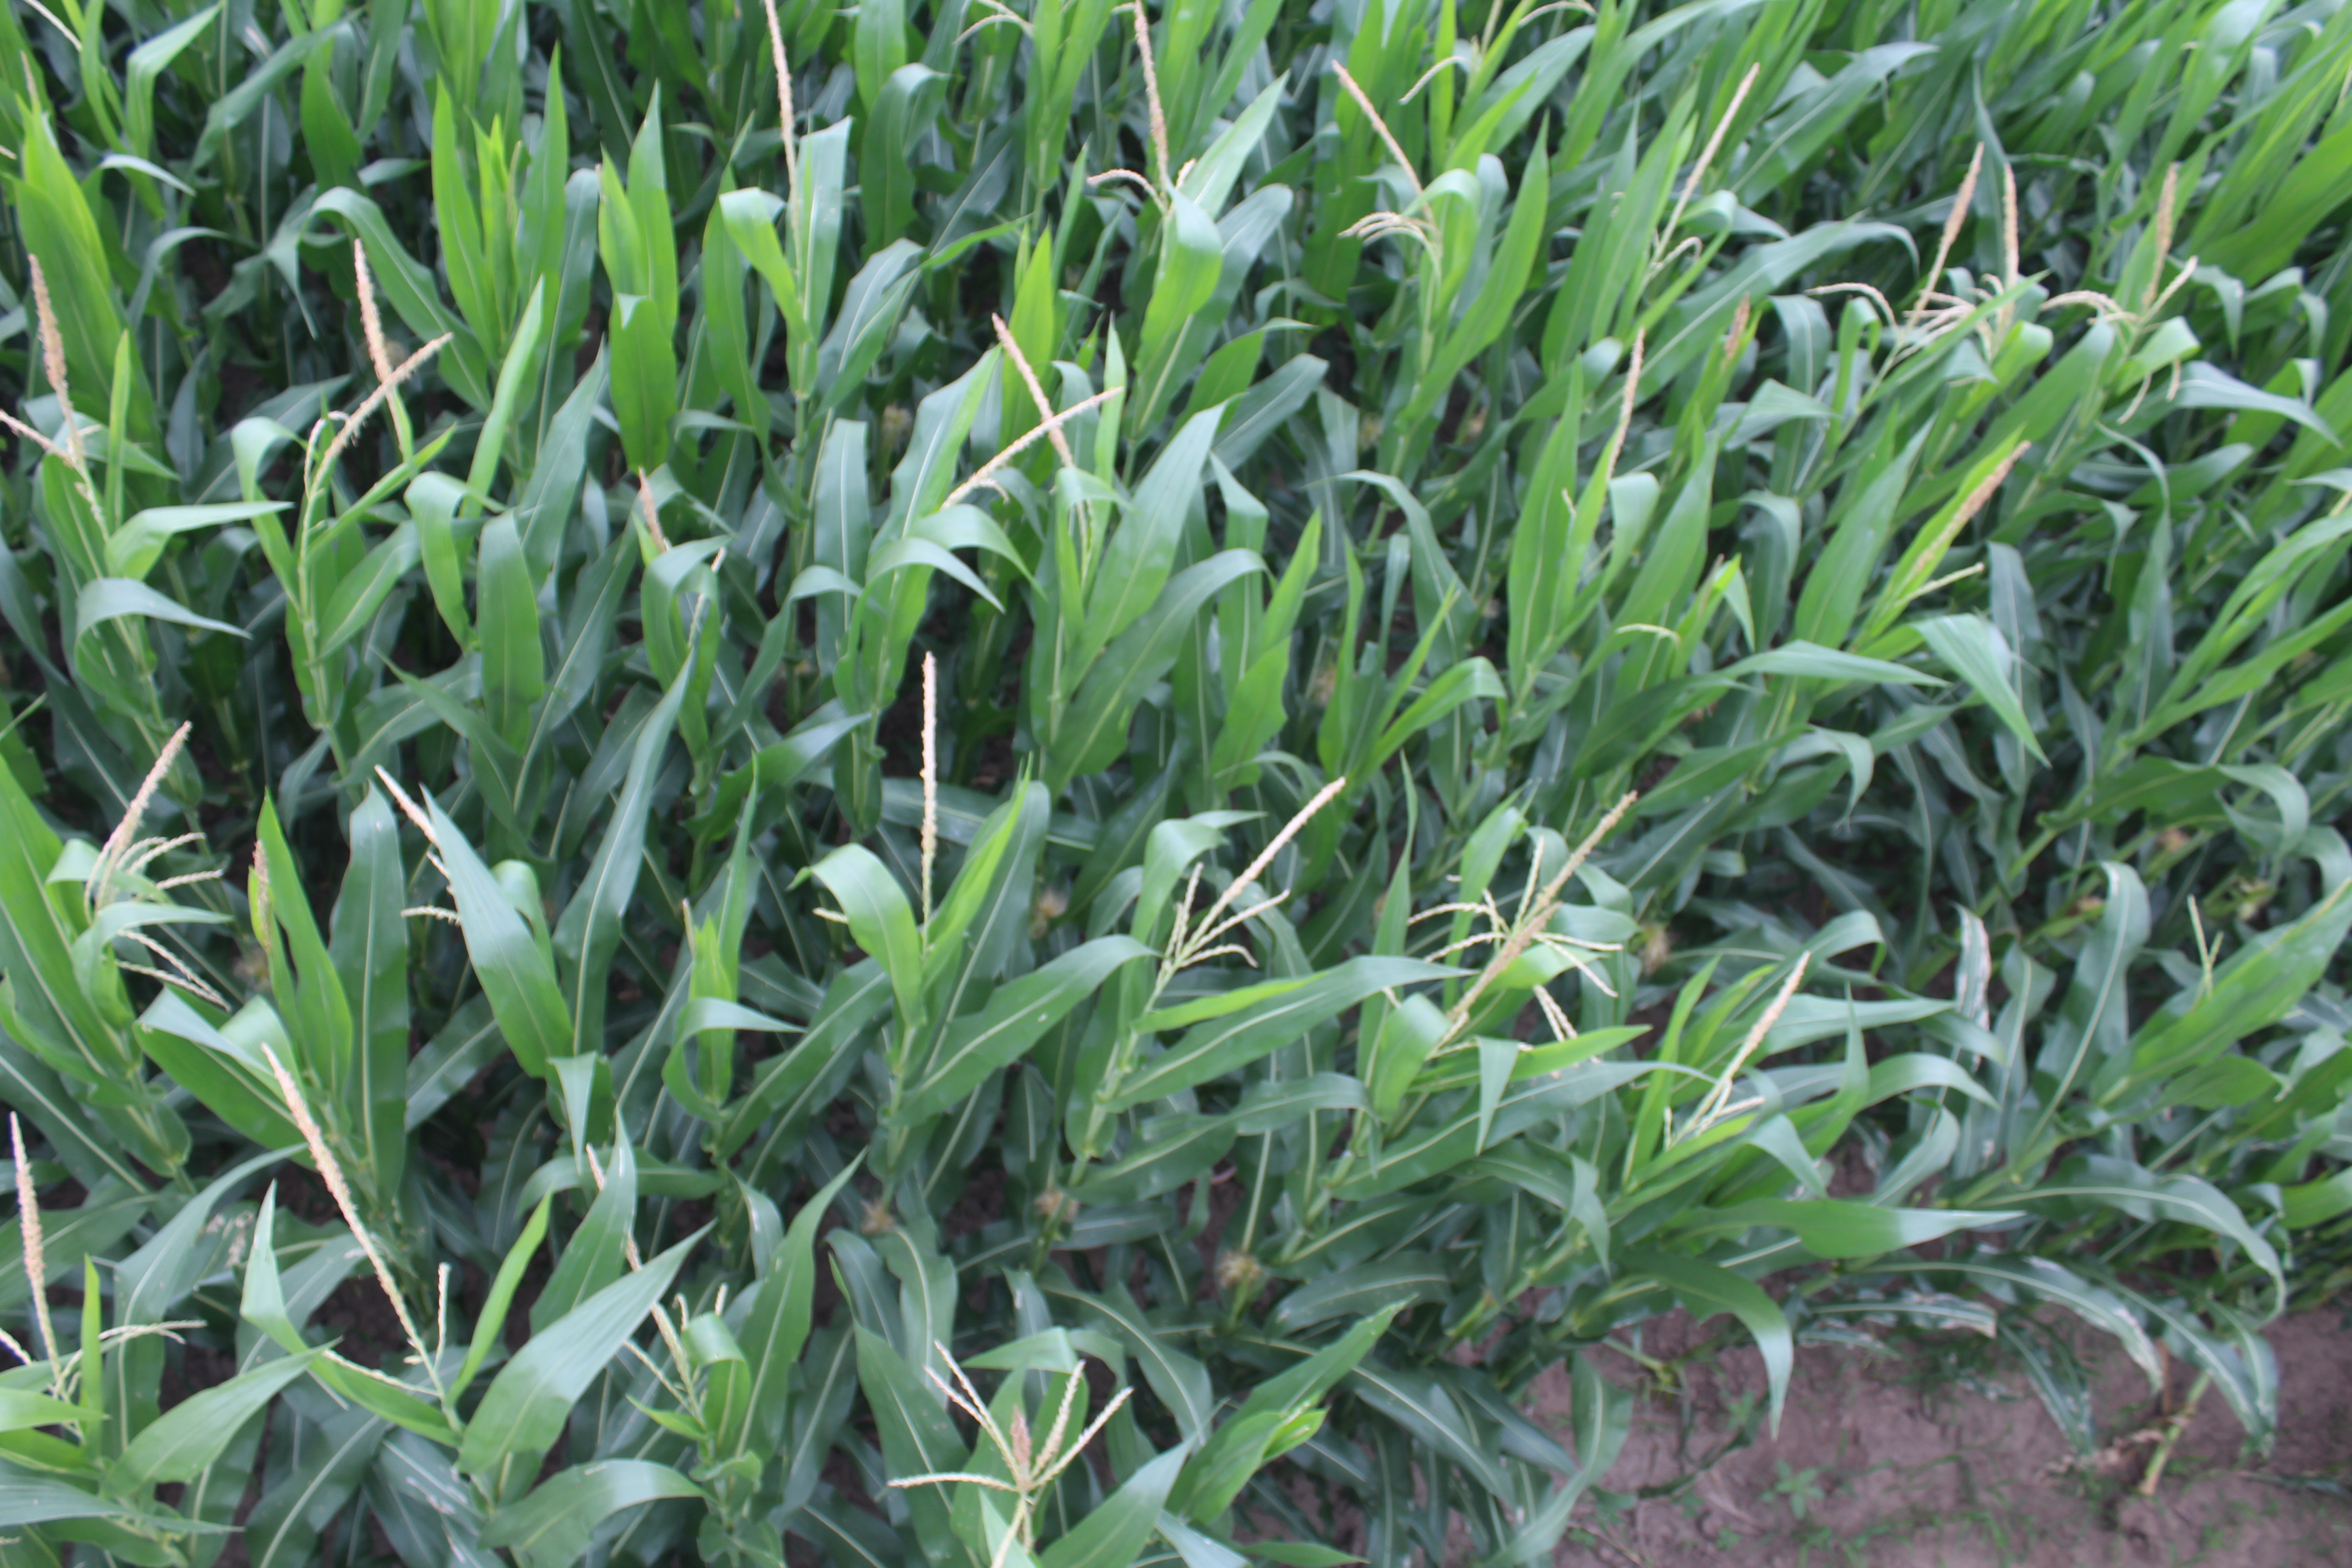Maize: (257, 1038, 502, 1428), (0, 1099, 215, 1428), (588, 1138, 775, 1491), (282, 235, 471, 584), (908, 1327, 1181, 1568), (896, 315, 1125, 583), (1125, 777, 1363, 1012), (46, 707, 238, 992), (378, 753, 609, 980), (1432, 784, 1634, 1033), (873, 627, 1019, 959), (1657, 921, 1822, 1171), (1090, 0, 1237, 249), (681, 0, 837, 217), (1605, 58, 1743, 301), (1830, 145, 1960, 404), (0, 273, 112, 530), (1325, 32, 1437, 287), (2079, 163, 2222, 361), (607, 439, 737, 649), (1974, 172, 2063, 364)
